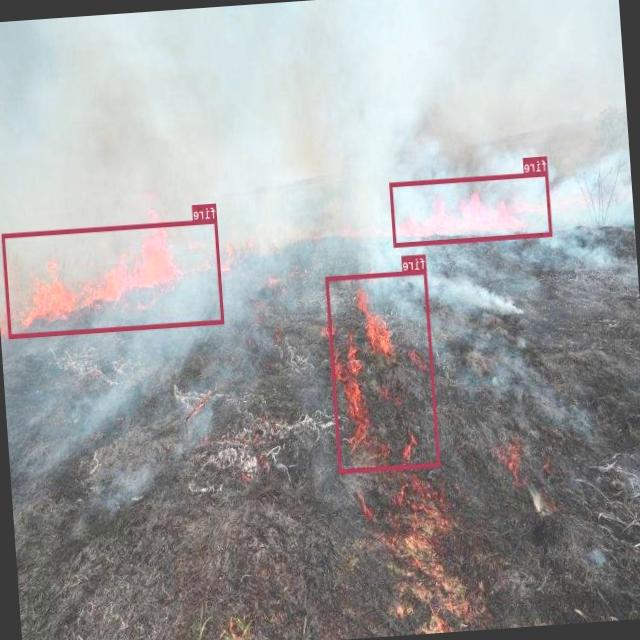fire: (2, 218, 225, 338), (326, 268, 440, 472), (389, 170, 552, 246)
